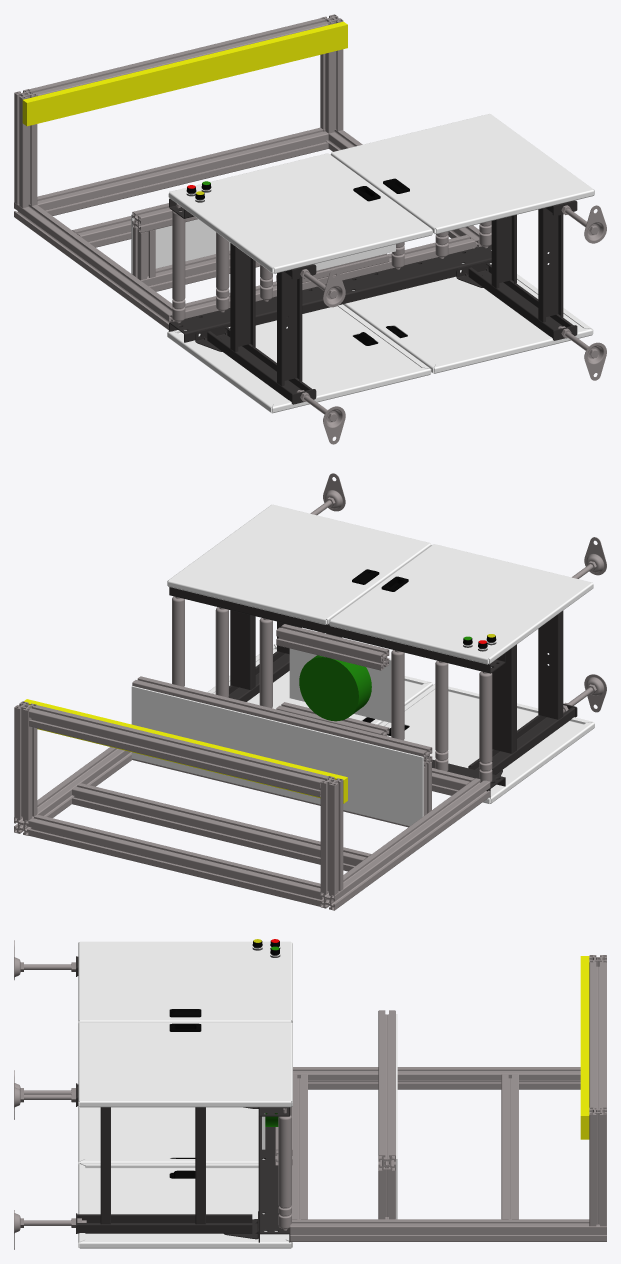
File: dracoManualConveyor.glb
3 views of the same model, one above another, from view 1: azimuth 30°, elevation 25°; view 2: azimuth 150°, elevation 25°; view 3: azimuth 270°, elevation 25° (orthographic). The views are drawn at different scales.
Visible parts, largest first — view 1: Object_17, Object_14, Object_22, Object_15, Object_4, Object_23, Object_10, Object_11, Object_12, Object_16, Object_20; view 2: Object_17, Object_14, Object_15, Object_22, Object_16, Object_10, Object_5, Object_23, Object_11, Object_12, Object_4; view 3: Object_17, Object_14, Object_22, Object_15, Object_16, Object_23, Object_10, Object_4, Object_11, Object_20.
Boxes of the visible parts, x1,y1,x2,y2 form: Object_17: (131, 114, 594, 413); Object_14: (14, 127, 482, 330); Object_22: (195, 200, 577, 404); Object_15: (14, 14, 343, 291); Object_4: (22, 21, 347, 126); Object_23: (169, 198, 491, 342); Object_10: (216, 221, 491, 311); Object_11: (176, 204, 606, 380); Object_12: (172, 210, 345, 444); Object_16: (132, 203, 389, 282); Object_20: (353, 178, 409, 345); Object_17: (131, 504, 594, 826); Object_14: (14, 747, 490, 910); Object_15: (14, 701, 431, 894); Object_22: (228, 610, 577, 776); Object_16: (132, 624, 432, 768); Object_10: (172, 537, 606, 771); Object_5: (299, 655, 371, 721); Object_23: (169, 587, 505, 797); Object_11: (215, 473, 345, 708); Object_12: (479, 671, 606, 782); Object_4: (24, 699, 347, 803); Object_17: (78, 941, 397, 1248); Object_14: (290, 1067, 606, 1241); Object_22: (76, 956, 257, 1233); Object_15: (378, 955, 606, 1226); Object_16: (275, 1010, 395, 1218); Object_23: (77, 956, 290, 1242); Object_10: (14, 940, 291, 1230); Object_4: (580, 956, 589, 1139); Object_11: (14, 1070, 291, 1249); Object_20: (169, 1023, 201, 1178).
Bounding box in the file's own units: 2.87 × 1.48 × 4.47.
